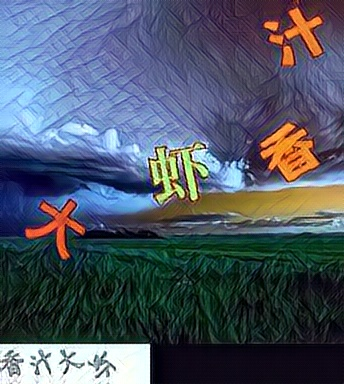B4F3: (23, 195, 86, 261)
CFBA: (145, 138, 208, 204)
CFE3: (258, 117, 321, 183)
D6AD: (262, 4, 325, 70)
